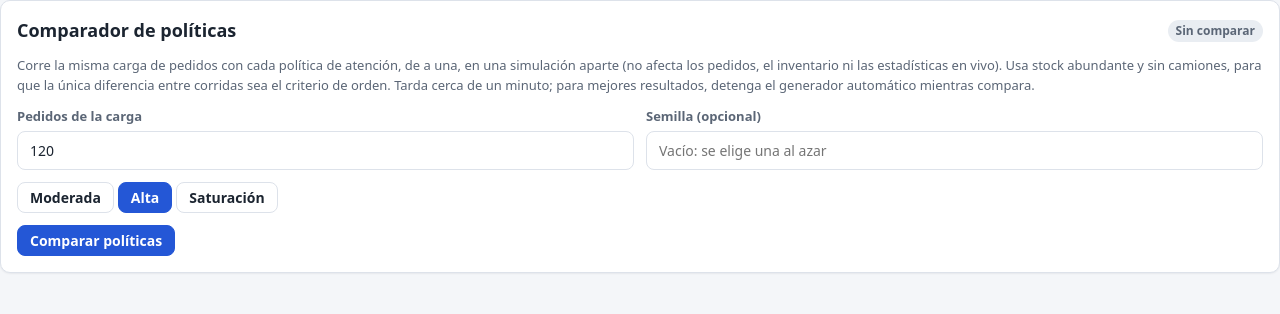
Test: BenchmarkPanel › blocks the start and explains when the orders are out of range
This screenshot has width=1280, height=314.
Replace the text in the field labelled "Pedidos de la carga" with "5" at [326, 150], box [17,130,634,170]
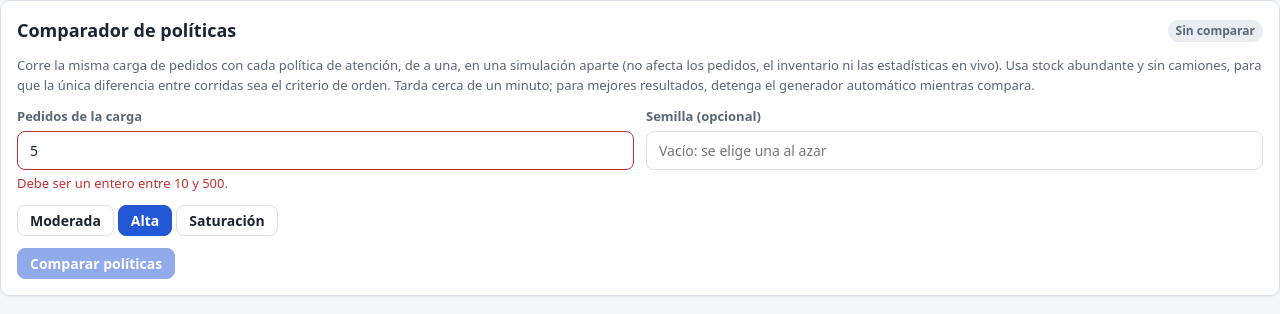
Now the text "Debe ser un entero entre 10 y 500." is shown, box [17,174,228,192]
Now the button "Comparar políticas" is disabled, box [17,248,175,279]
